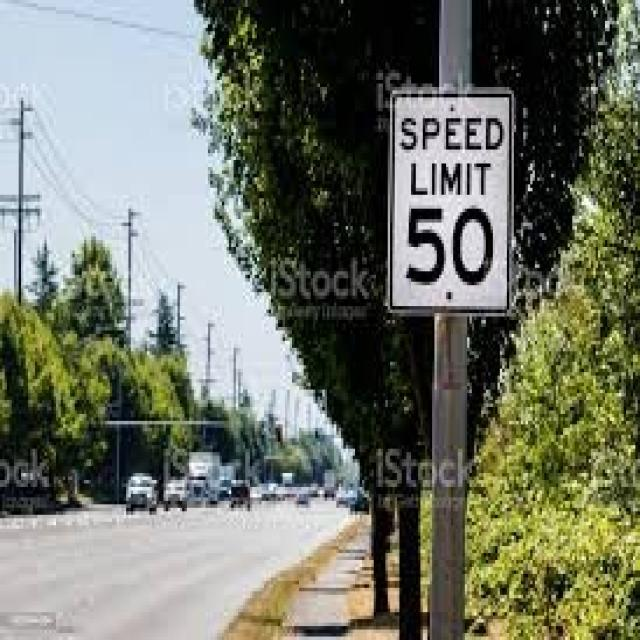speedLimit50: (395, 75, 510, 318)
